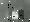person: (14, 9, 19, 21), (20, 8, 25, 19)
